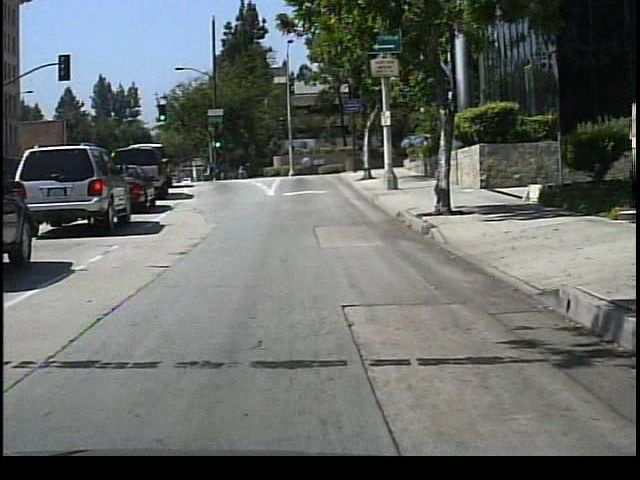person: (208, 159, 223, 183)
